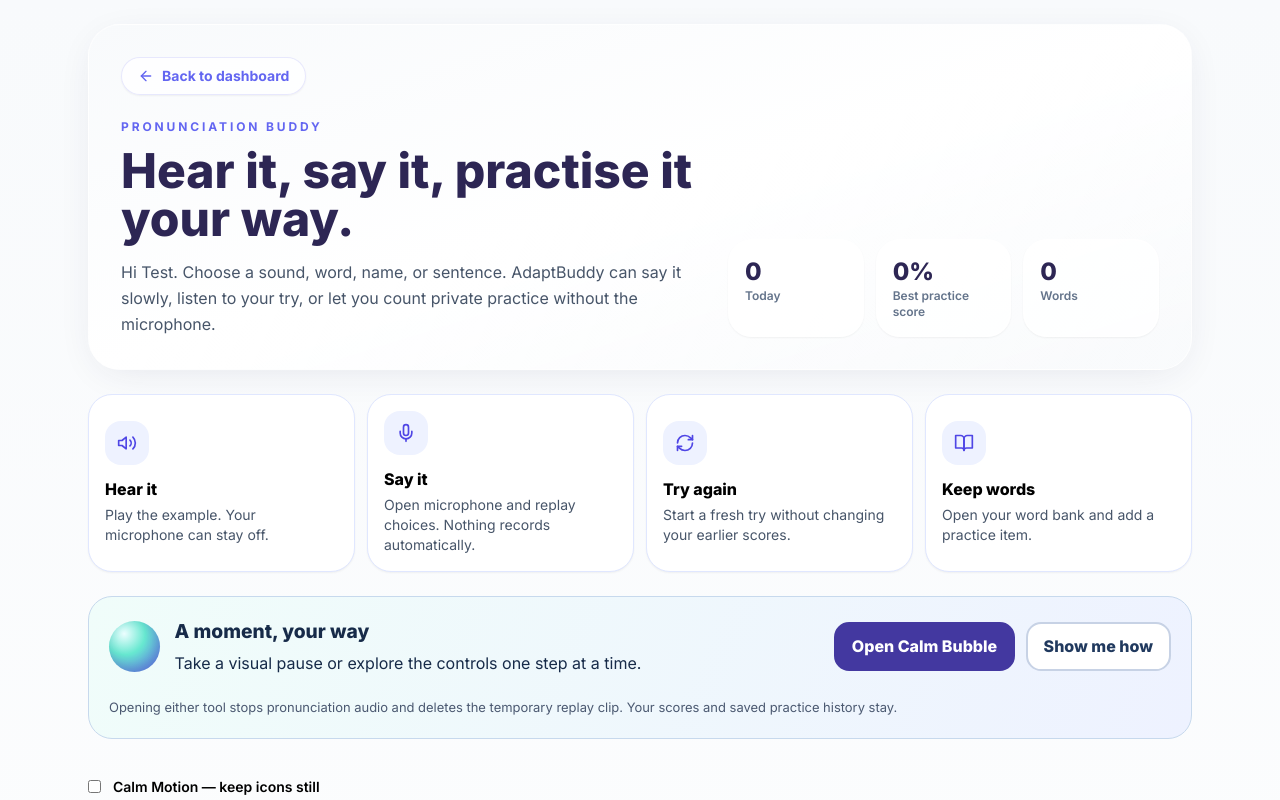
it: switching children dismisses the bubble rather than carrying it into the new session
The width and height of the screenshot is (1280, 800).
Click the button "Open Calm Bubble": (924, 646) [834, 622, 1015, 671]
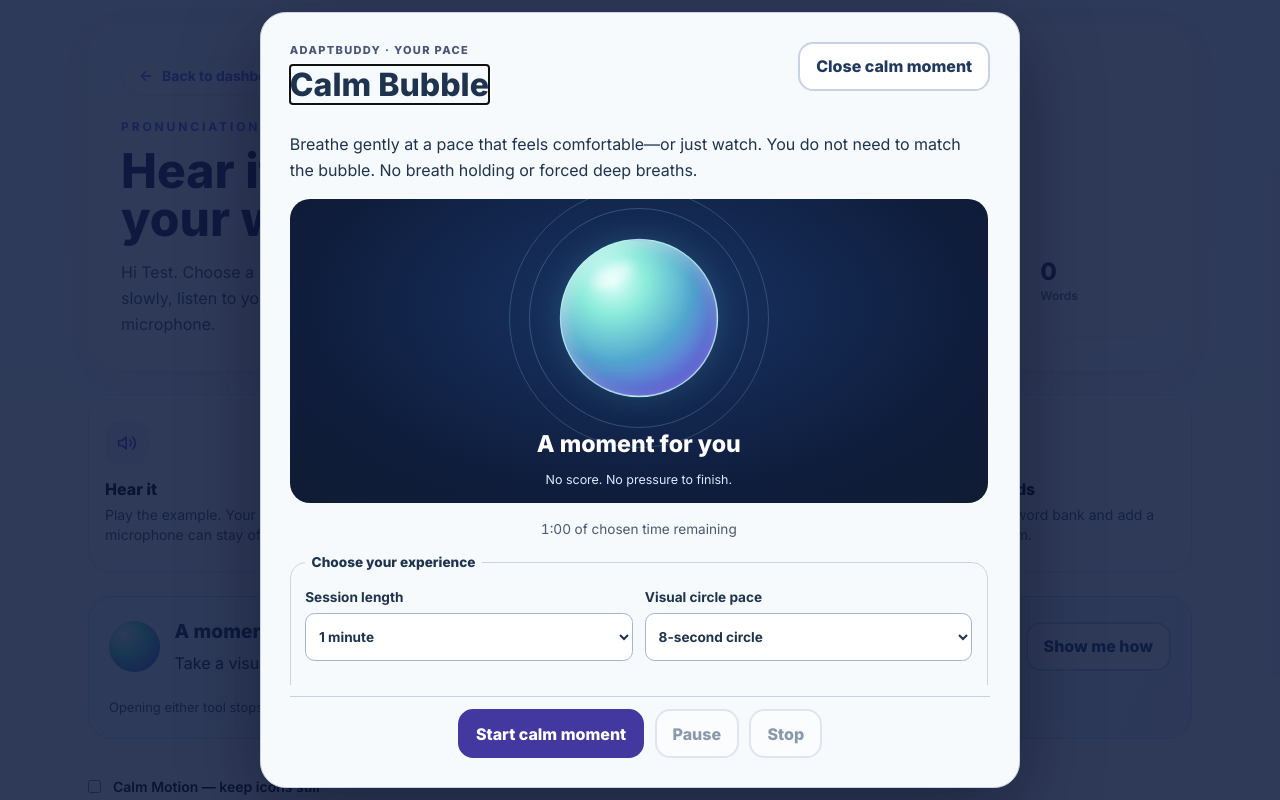
Click the button "Start calm moment": (551, 734) [458, 709, 644, 758]
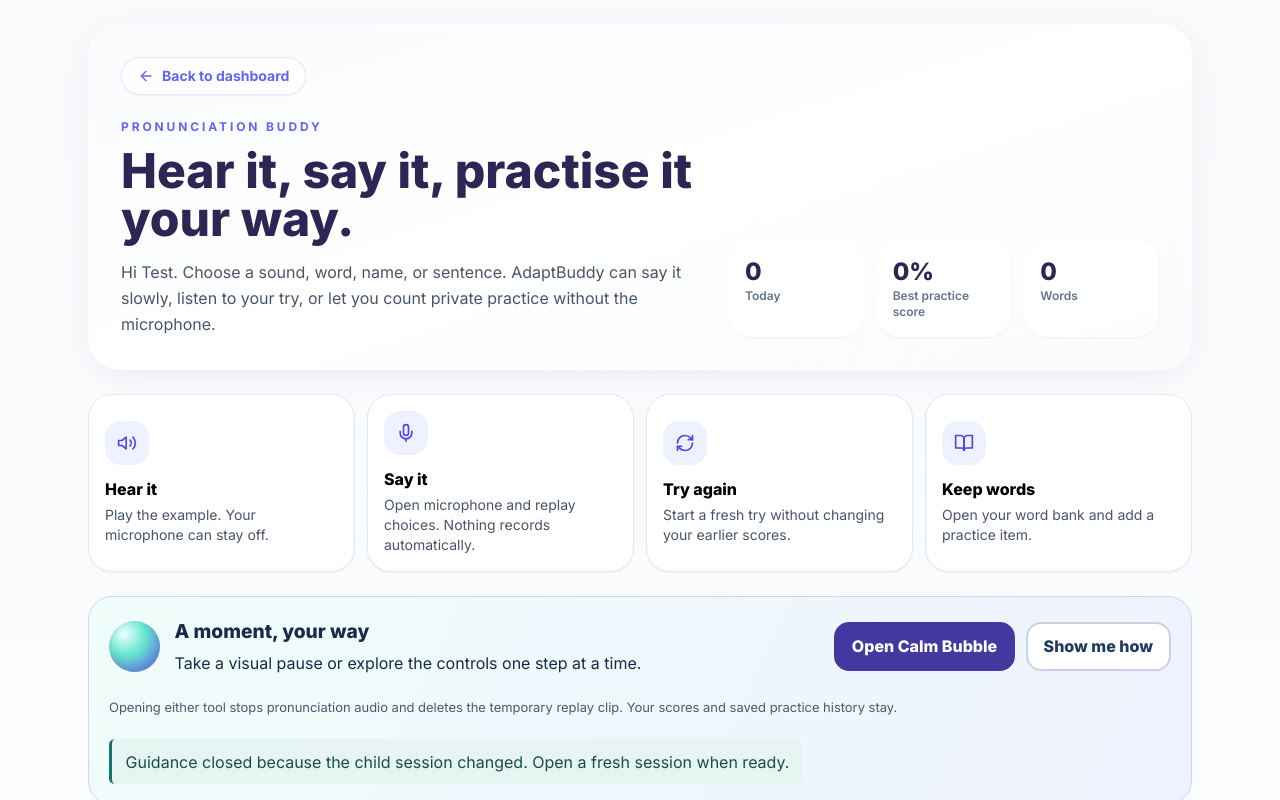
Check: the dialog is gone
